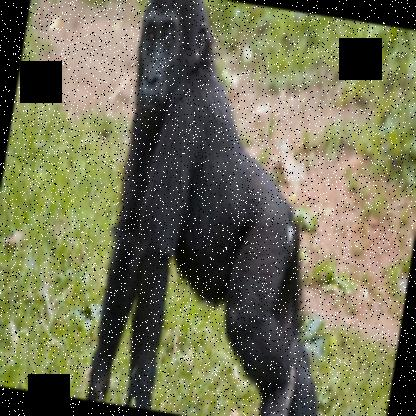Gorilla gorilla: (80, 0, 388, 415)
